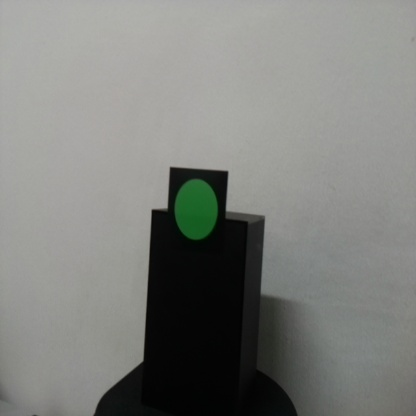id_5: (170, 168, 227, 258)
